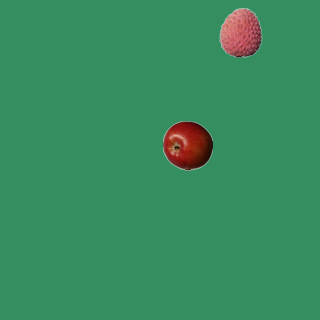Apple Braeburn: (162, 120, 212, 170)
Lychee: (215, 7, 265, 57)
